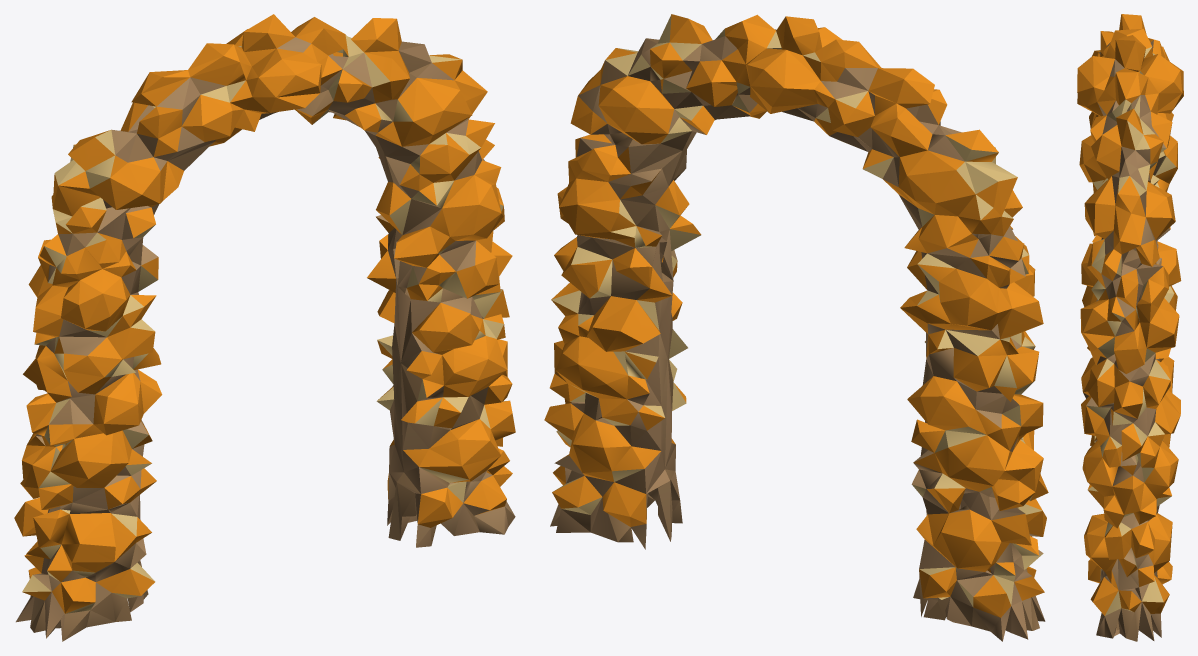
Rendered from ofrenda_arch.glb.
3 renders of one model, left to right at view 1: azimuth 30°, elevation 25°; view 2: azimuth 150°, elevation 25°; view 3: azimuth 270°, elevation 25°, orthographic. The views are drawn at different scales.
Visible parts, largest first — view 1: Mesh_0; view 2: Mesh_0; view 3: Mesh_0.
Part boxes in pixels (<box>): Mesh_0: <box>14,14,515,641</box>; Mesh_0: <box>544,14,1048,641</box>; Mesh_0: <box>1077,14,1183,641</box>.
Size of the model in its own units: 2.4 by 2.6 by 0.5.
